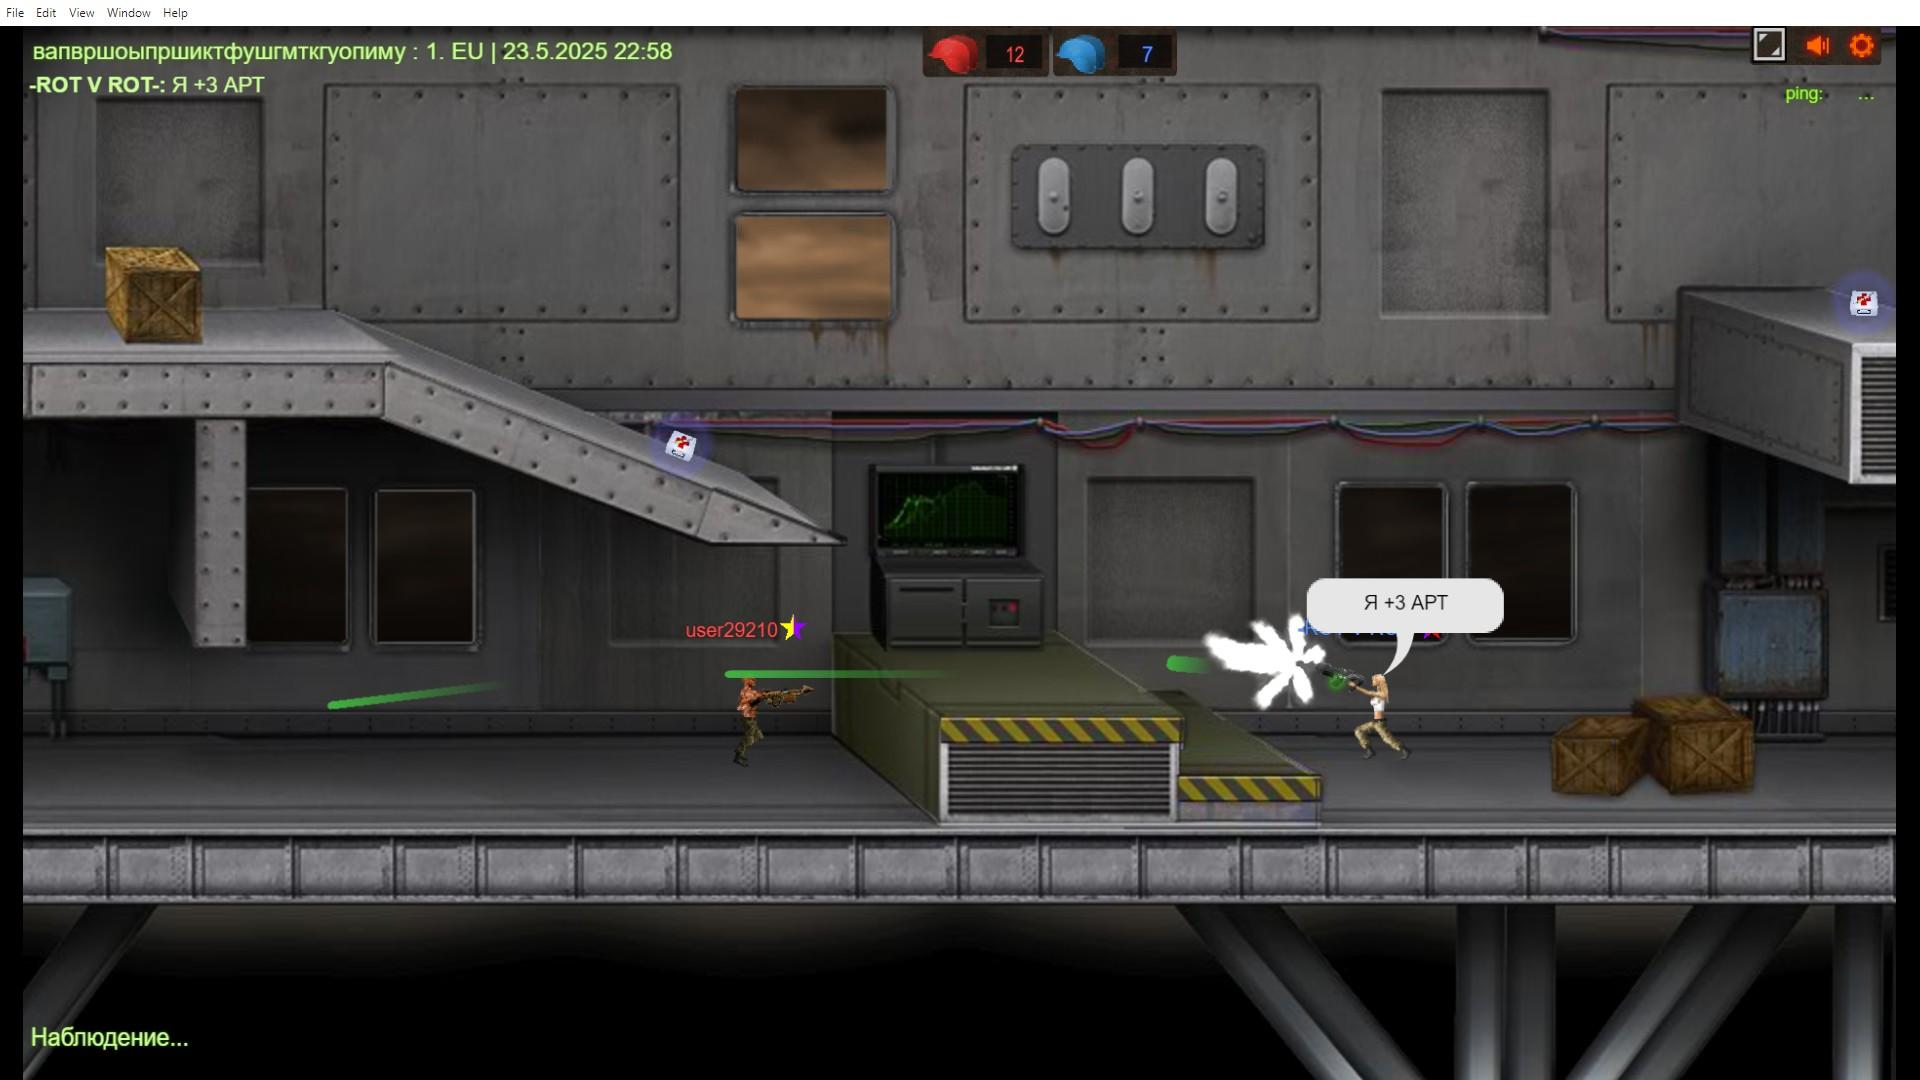enemy: (1353, 673, 1406, 767), (734, 673, 773, 766)
